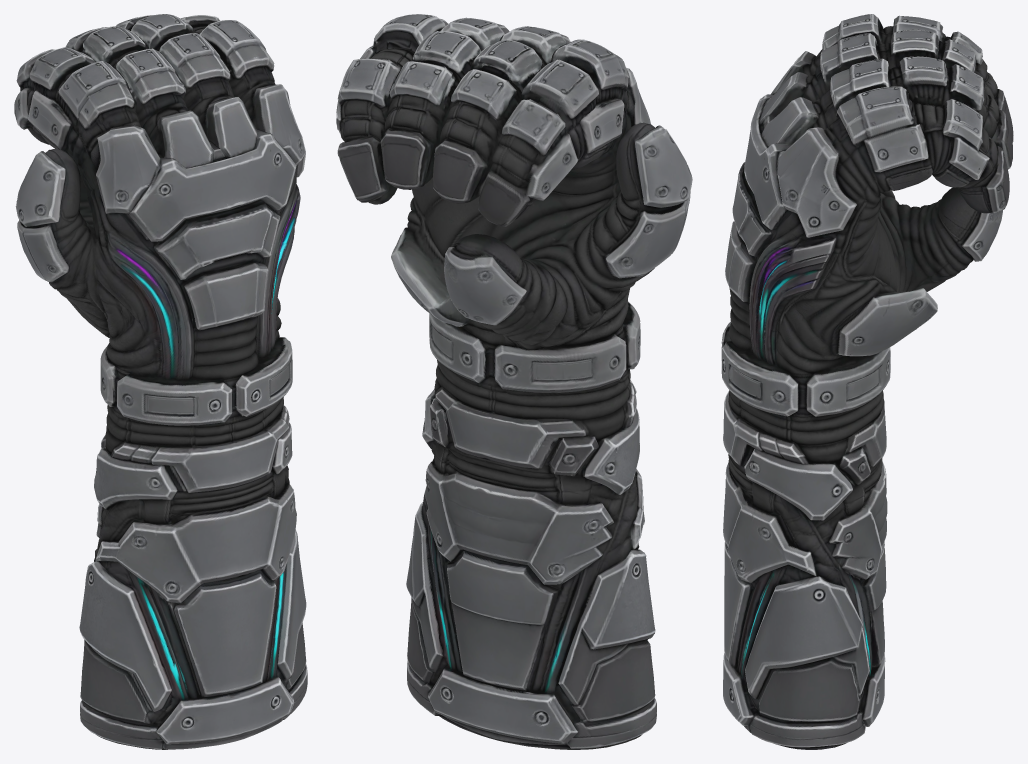
Rendered from glove.glb.
The picture shows the model from 3 angles, left to right: view 1: azimuth 30°, elevation 25°; view 2: azimuth 150°, elevation 25°; view 3: azimuth 270°, elevation 25°; orthographic projection. The views are drawn at different scales.
Visible parts, largest first — view 1: SM_glove; view 2: SM_glove; view 3: SM_glove.
Boxes of the visible parts, bbox=[...] form: SM_glove: bbox=[14, 14, 307, 749]; SM_glove: bbox=[336, 14, 692, 749]; SM_glove: bbox=[721, 14, 1013, 749].
Bounding box in the file's own units: 0.4161 × 0.9796 × 0.3918.
Materials: 1 (1 with a texture image).
